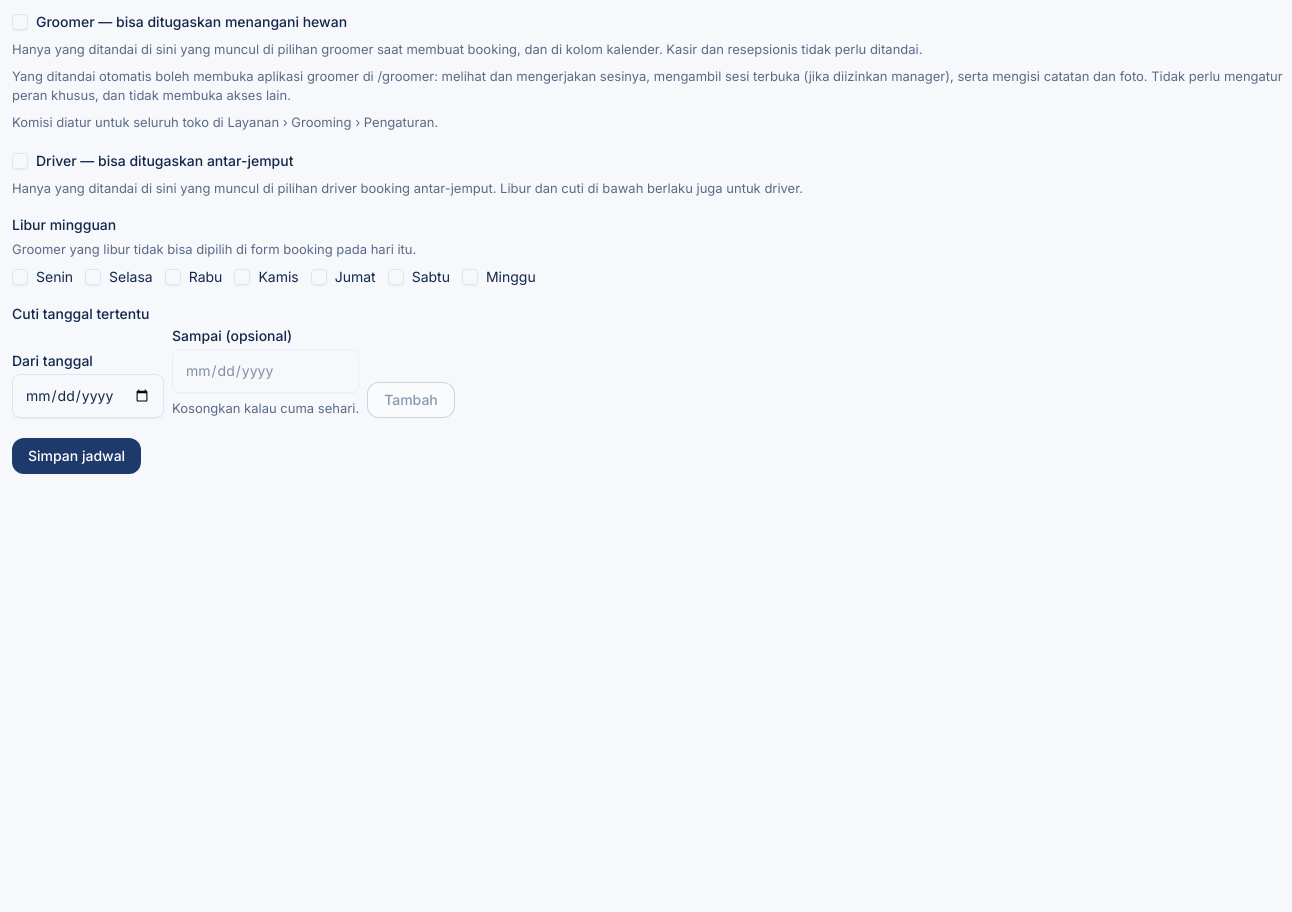
Scenario: RosterSection › warns about the bookings a range would strand
In the date field labelled "Dari tanggal": (88, 396) x1=12 y1=374 x2=164 y2=418, type "2026-09-14"
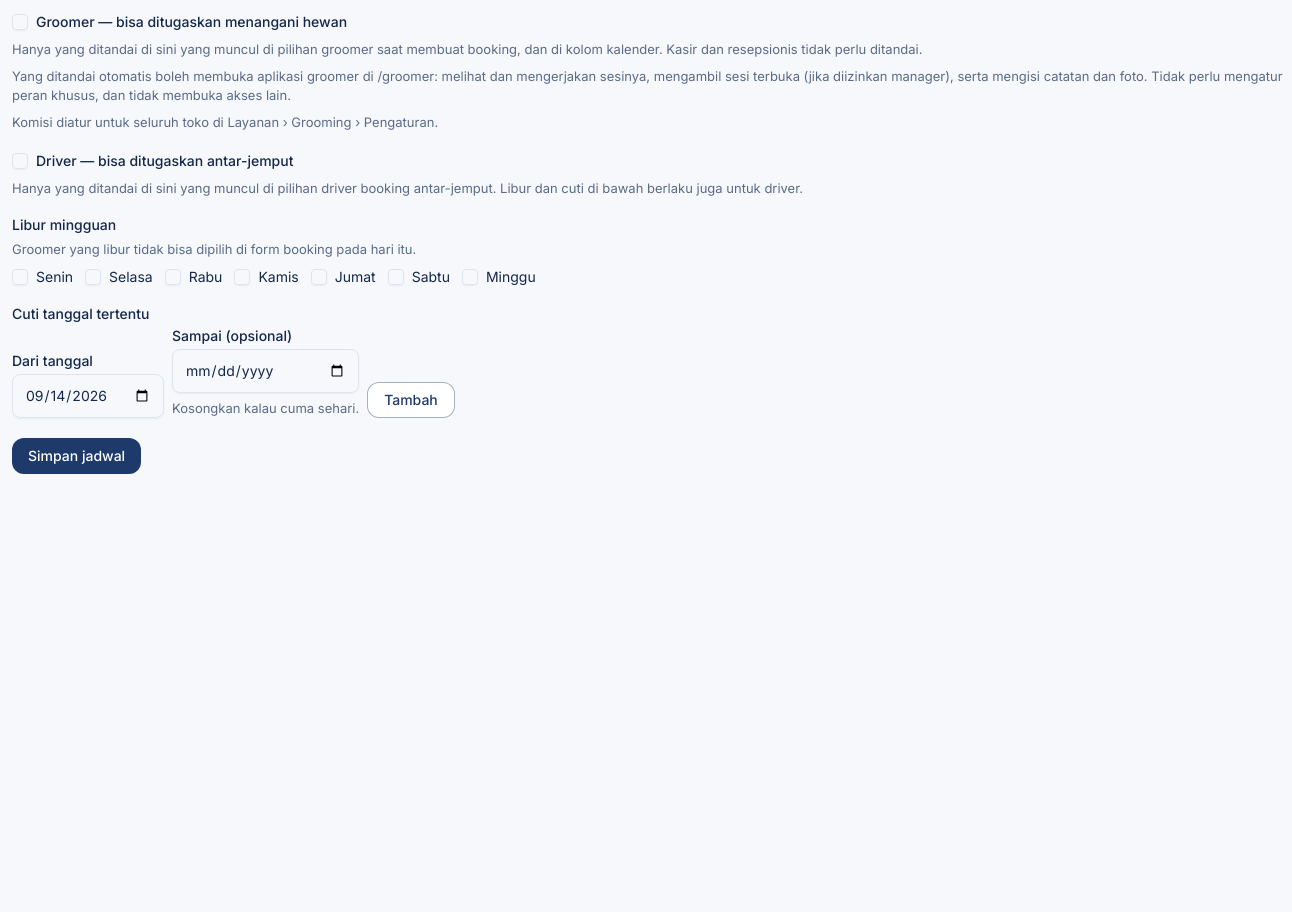
In the date field labelled "Sampai (opsional)": (266, 371) x1=172 y1=349 x2=359 y2=393, type "2026-09-16"
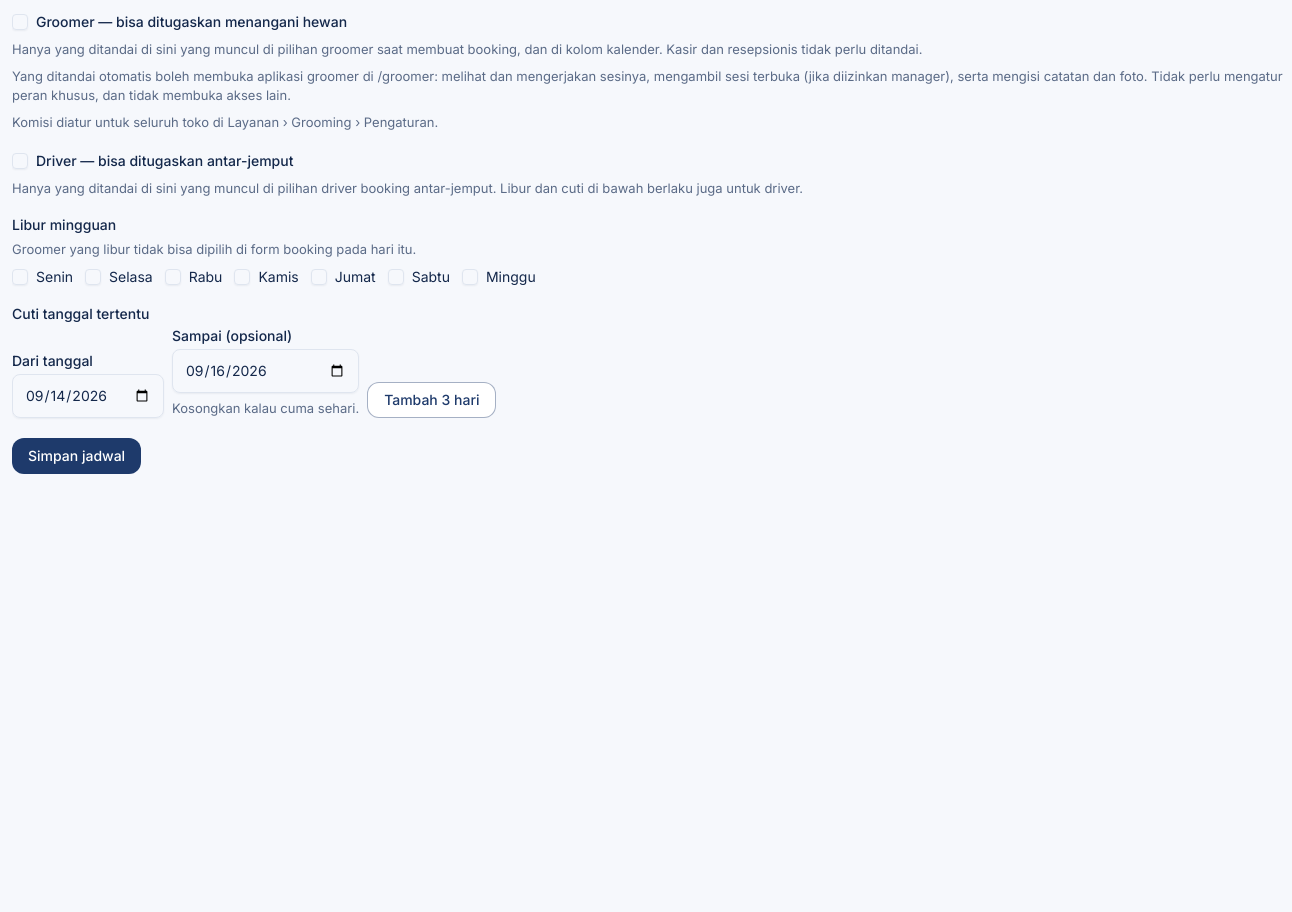
Click the button "Tambah 3 hari": (432, 400) x1=367 y1=382 x2=496 y2=418
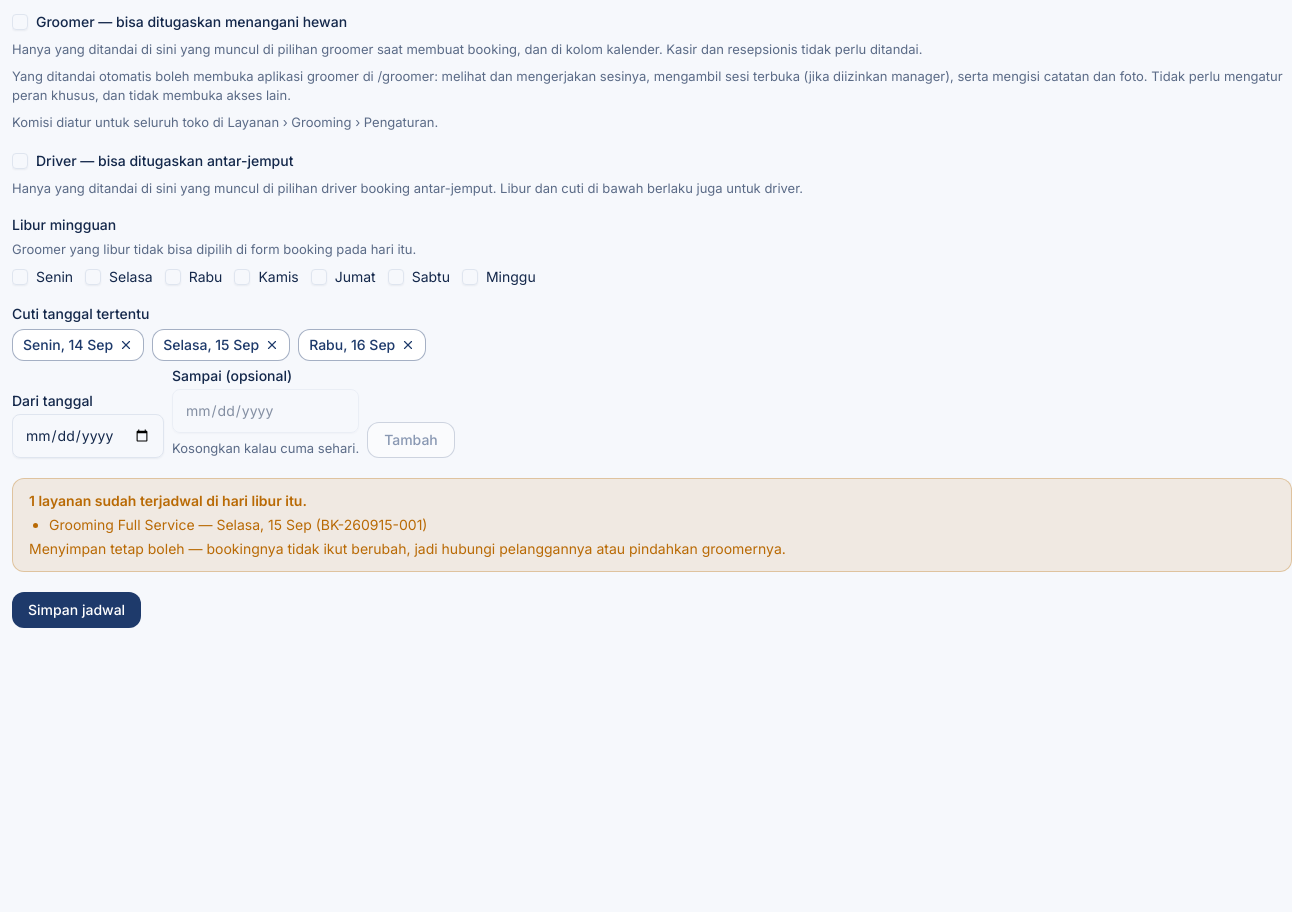
Check: the button "Simpan jadwal" is enabled, box x1=12 y1=592 x2=141 y2=628
Check: the list item "Grooming Full Service — Selasa, 15 Sep (BK-260915-001)" is shown, box x1=49 y1=516 x2=428 y2=533
